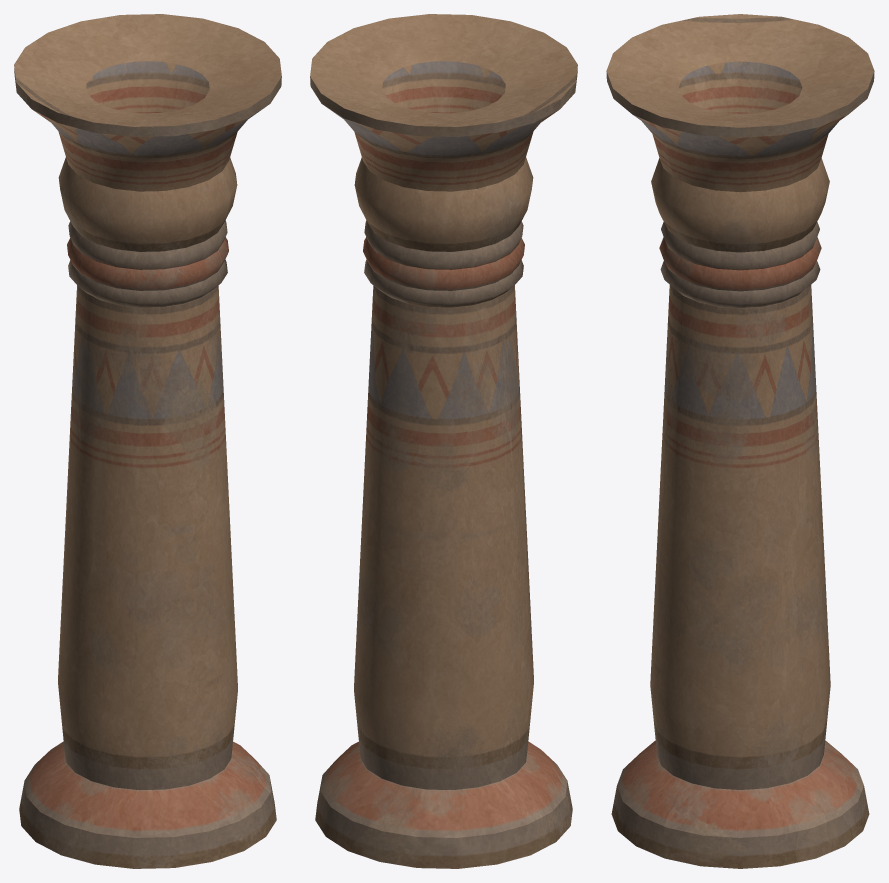
Rendered from Column6.fbx.
3 renders of one model, left to right at view 1: azimuth 30°, elevation 25°; view 2: azimuth 150°, elevation 25°; view 3: azimuth 270°, elevation 25°, orthographic.
Visible parts, largest first — view 1: node_765ac4f4_5210_4a82_91ae_cdfa967767af_mesh0; view 2: node_765ac4f4_5210_4a82_91ae_cdfa967767af_mesh0; view 3: node_765ac4f4_5210_4a82_91ae_cdfa967767af_mesh0.
Part boxes in pixels (x1,y1,x2,y2): node_765ac4f4_5210_4a82_91ae_cdfa967767af_mesh0: (14,14,281,868); node_765ac4f4_5210_4a82_91ae_cdfa967767af_mesh0: (310,14,577,868); node_765ac4f4_5210_4a82_91ae_cdfa967767af_mesh0: (606,14,874,868).
Bounding box in the file's own units: 202 × 614 × 201.
1 material, 1 textured.
